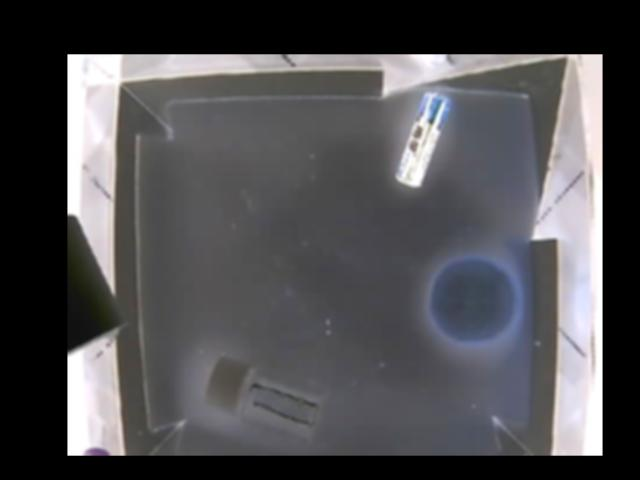Battery: (394, 92, 446, 188)
Bottle: (201, 351, 327, 437)
Mooli: (431, 255, 516, 342)
